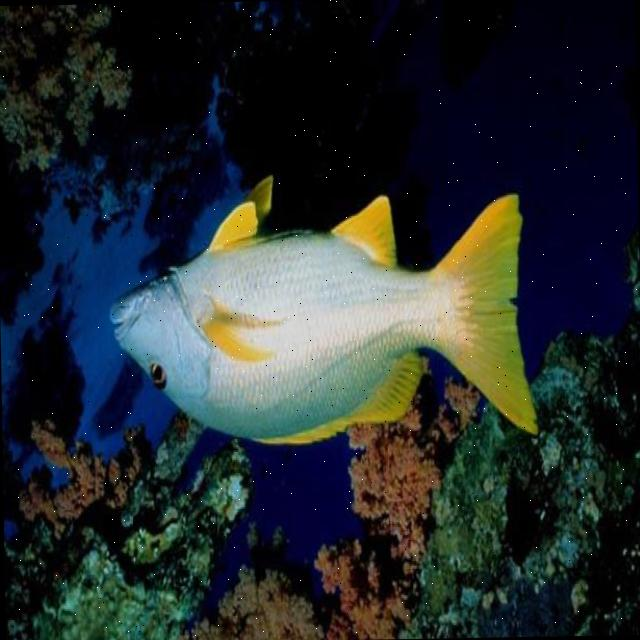ikan: (106, 170, 539, 452)
